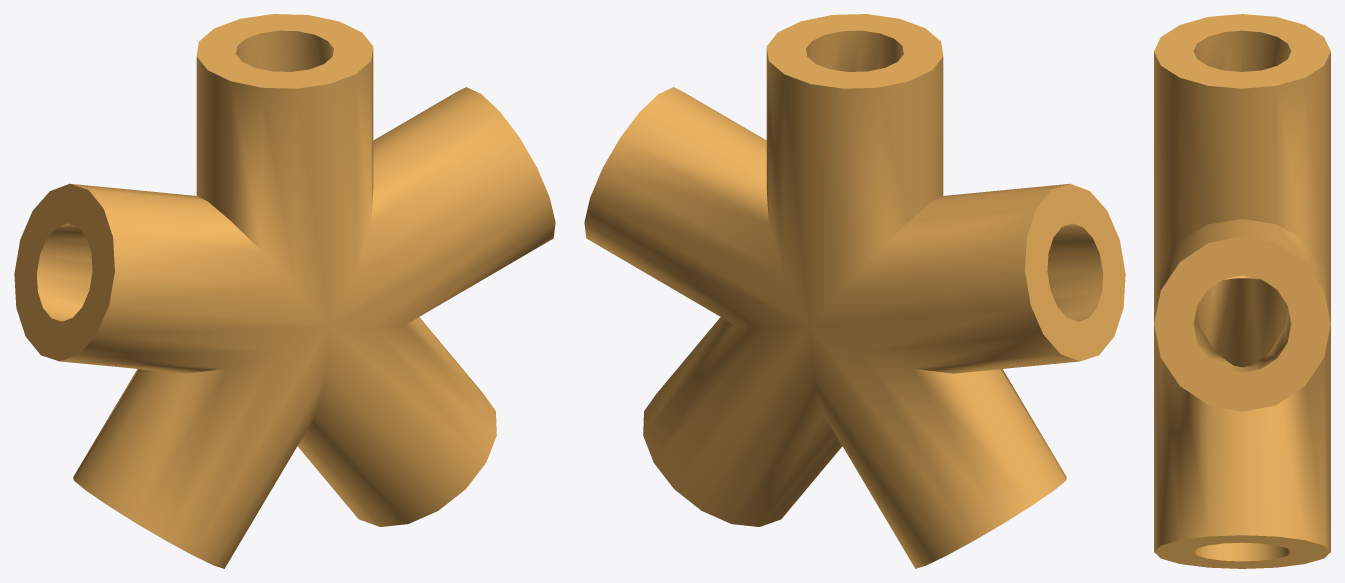
The model's file is Joint_5P.fbx.
3 views of the same model, side by side, from view 1: azimuth 30°, elevation 25°; view 2: azimuth 150°, elevation 25°; view 3: azimuth 270°, elevation 25° (orthographic).
Parts seen in each view (by area): view 1: Joint_5P; view 2: Joint_5P; view 3: Joint_5P.
Boxes of the visible parts, x1,y1,x2,y2 form: Joint_5P: (14,14,555,568); Joint_5P: (584,14,1125,568); Joint_5P: (1154,14,1330,568).
Size of the model in its own units: 354 by 337 by 112.
